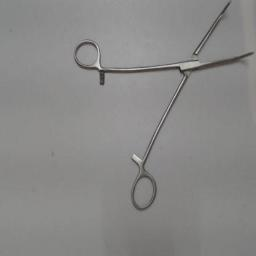Lahey Forceps: (68, 0, 254, 218)
